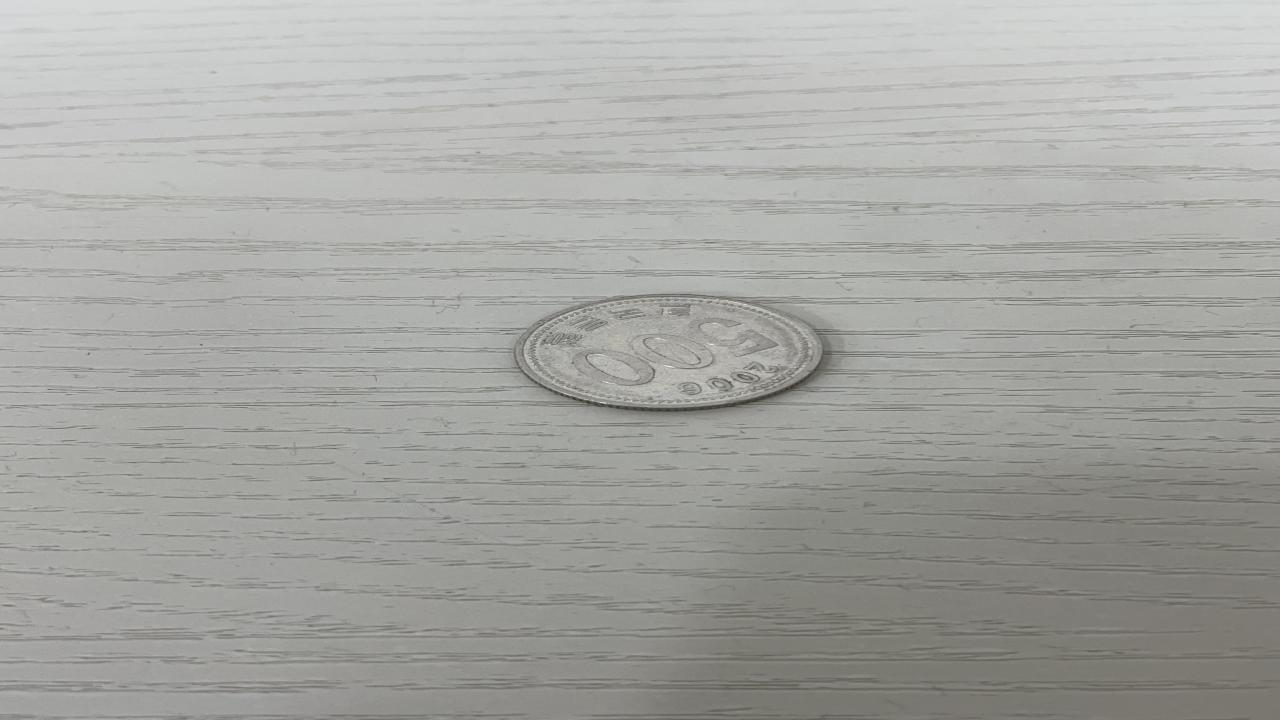coin: (508, 292, 836, 415)
